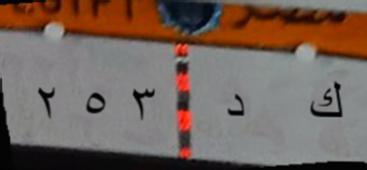2: (28, 79, 65, 127)
3: (124, 82, 156, 125)
5: (74, 86, 114, 124)
daal: (210, 86, 256, 122)
kaaf: (305, 76, 352, 134)
